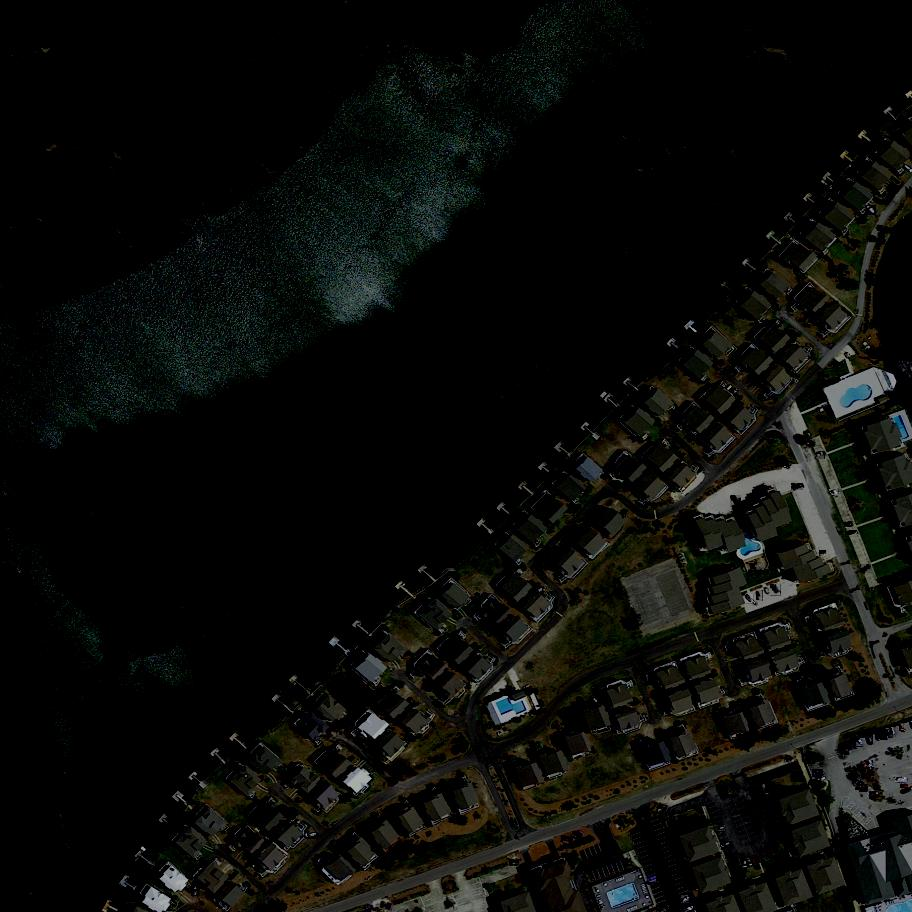small-vehicle: (730, 496, 741, 510), (771, 584, 782, 597), (767, 847, 778, 858), (860, 565, 871, 576), (866, 204, 877, 214), (792, 483, 804, 492), (721, 841, 733, 850), (859, 762, 869, 772), (855, 782, 865, 792), (813, 770, 824, 779), (746, 595, 755, 605), (816, 452, 826, 461), (647, 877, 658, 885), (682, 895, 691, 904), (853, 778, 862, 787), (536, 587, 545, 596), (885, 729, 894, 738), (746, 857, 754, 867), (684, 905, 695, 912), (757, 591, 764, 602), (847, 531, 858, 538), (724, 852, 735, 859), (891, 727, 898, 738), (880, 730, 887, 741), (860, 785, 869, 793), (870, 791, 878, 800), (895, 778, 907, 784), (829, 489, 839, 496), (752, 855, 759, 865), (591, 696, 598, 706), (715, 826, 726, 832), (856, 739, 863, 748), (875, 731, 882, 740), (847, 742, 853, 751), (867, 735, 873, 744), (305, 834, 318, 838), (851, 740, 857, 747), (742, 860, 747, 868), (845, 745, 849, 754), (843, 523, 852, 527), (901, 784, 908, 789), (194, 888, 198, 896), (868, 761, 872, 767), (659, 905, 667, 908), (819, 551, 826, 554), (900, 724, 903, 731)
